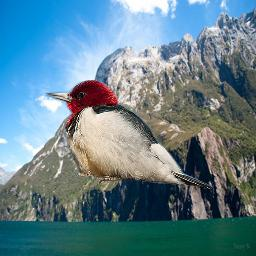Woodpecker: (45, 80, 215, 189)
